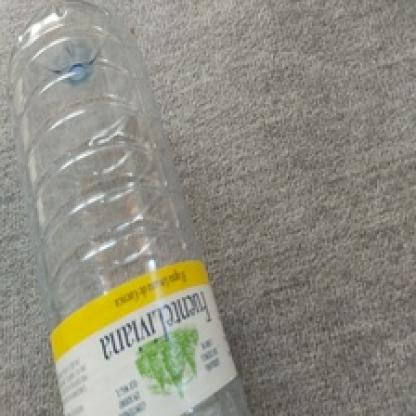plastic_bottles: (7, 3, 245, 416)
